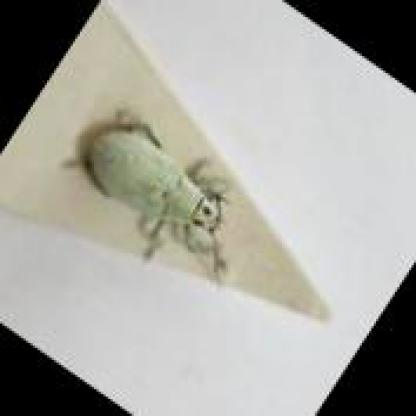ash weevil: (92, 123, 232, 240)
